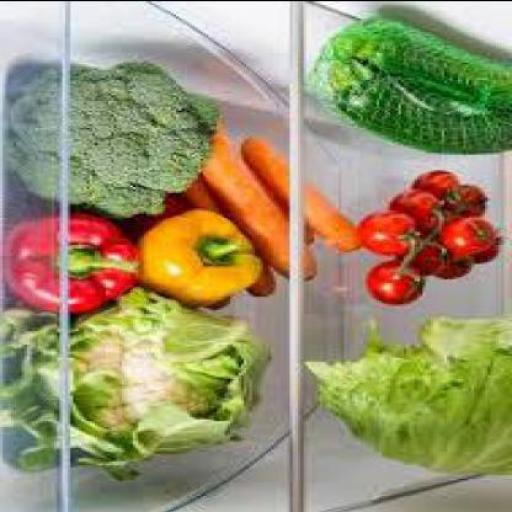biodegradable: (3, 289, 274, 484), (13, 61, 222, 221), (309, 318, 511, 476), (325, 63, 511, 156), (206, 136, 322, 284), (325, 20, 511, 107), (6, 217, 144, 315), (247, 138, 362, 253), (138, 213, 268, 309), (187, 178, 279, 296), (168, 200, 238, 312), (268, 180, 322, 246), (368, 260, 428, 307), (363, 213, 422, 255), (444, 217, 501, 257), (396, 188, 447, 232), (422, 172, 469, 210), (415, 238, 455, 274), (450, 186, 490, 220), (445, 256, 479, 284), (482, 236, 510, 265)
